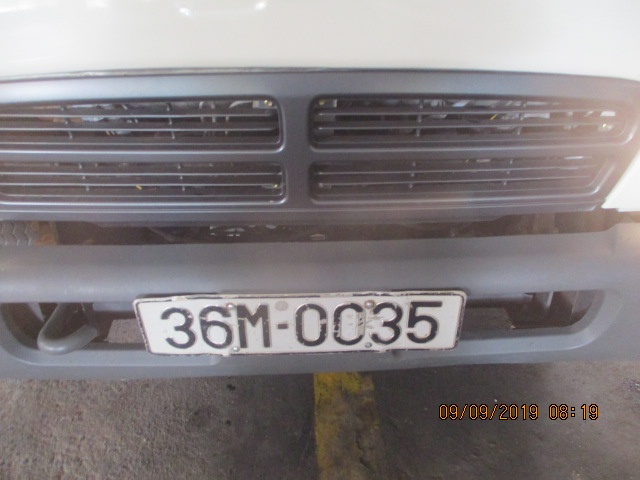number_plate: (153, 302, 447, 346)
